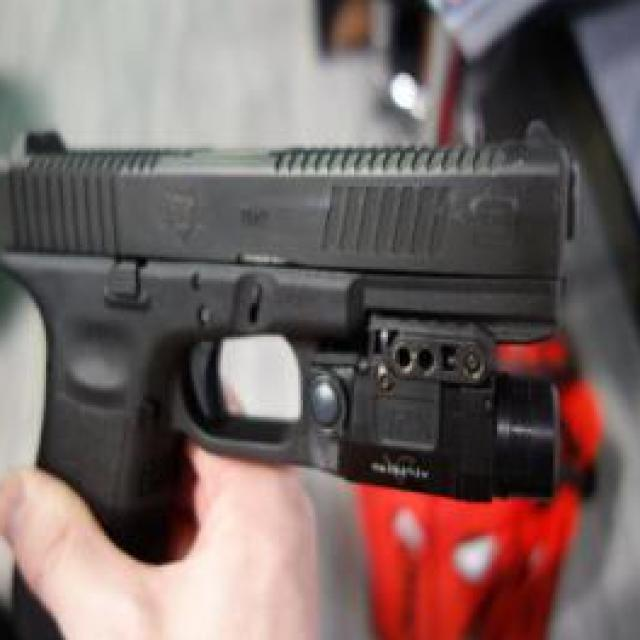pistol: (0, 121, 580, 640)
